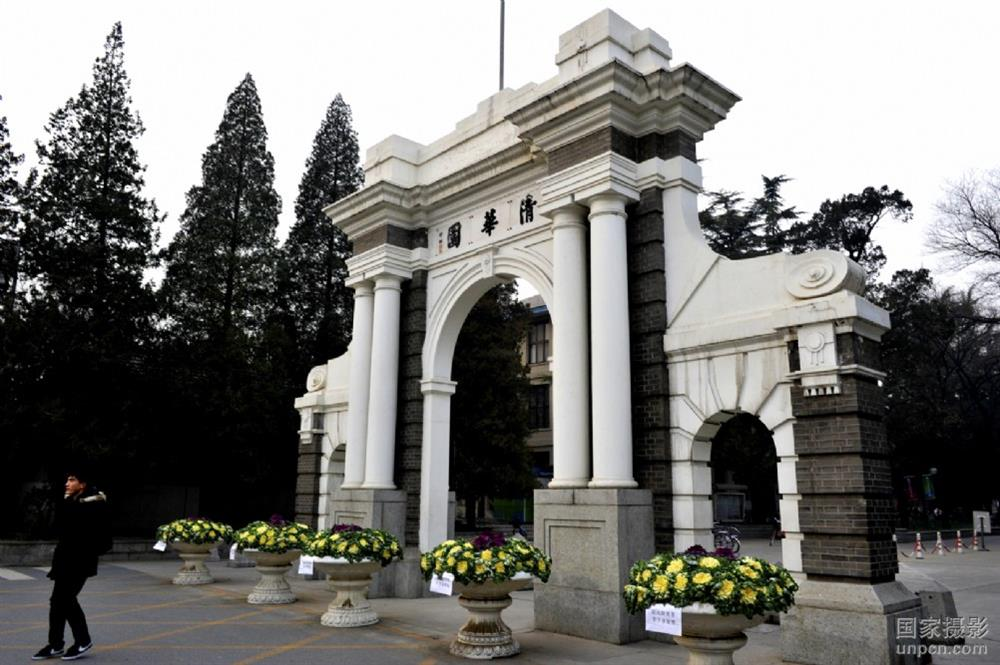Tsinghua_old_gate: (285, 9, 906, 632)
